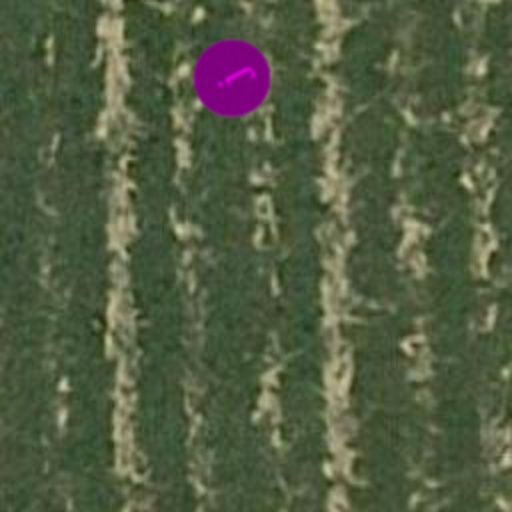circle: (178, 24, 286, 132)
